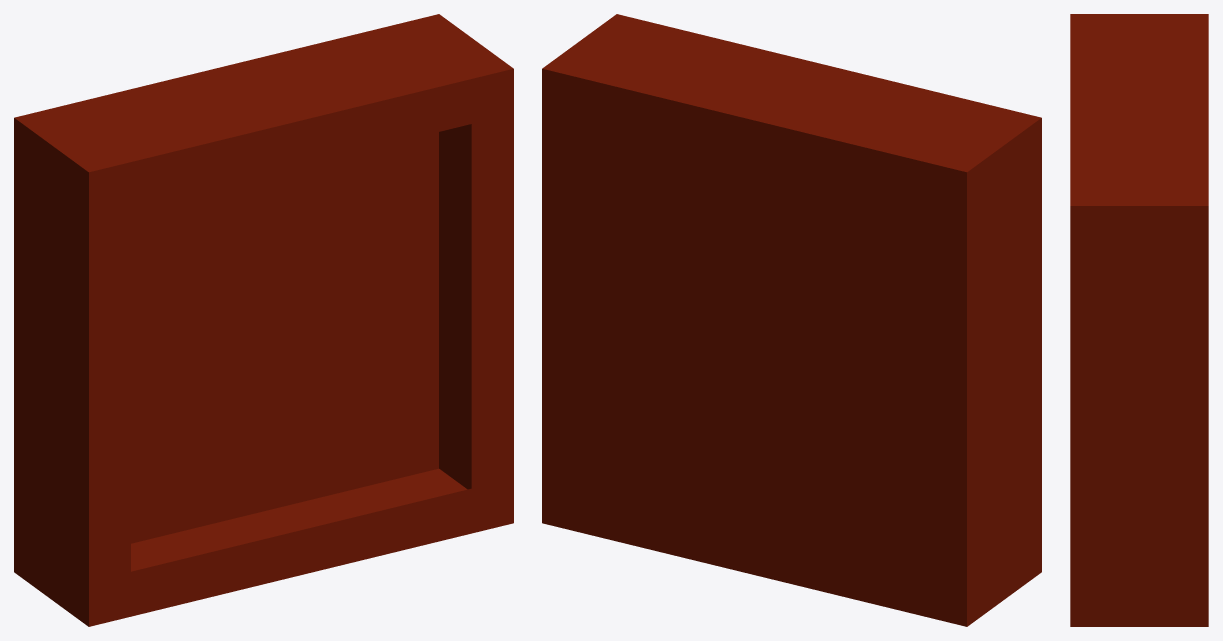
The model's file is Closet.FBX.
3 renders of one model, left to right at view 1: azimuth 30°, elevation 25°; view 2: azimuth 150°, elevation 25°; view 3: azimuth 270°, elevation 25°, orthographic. The views are drawn at different scales.
Visible parts, largest first — view 1: Closet; view 2: Closet; view 3: Closet.
Boxes of the visible parts, x1,y1,x2,y2 form: Closet: [14, 14, 513, 626]; Closet: [542, 14, 1041, 626]; Closet: [1070, 14, 1208, 626].
Bounding box in the file's own units: 93.07 × 28.34 × 95.12.
